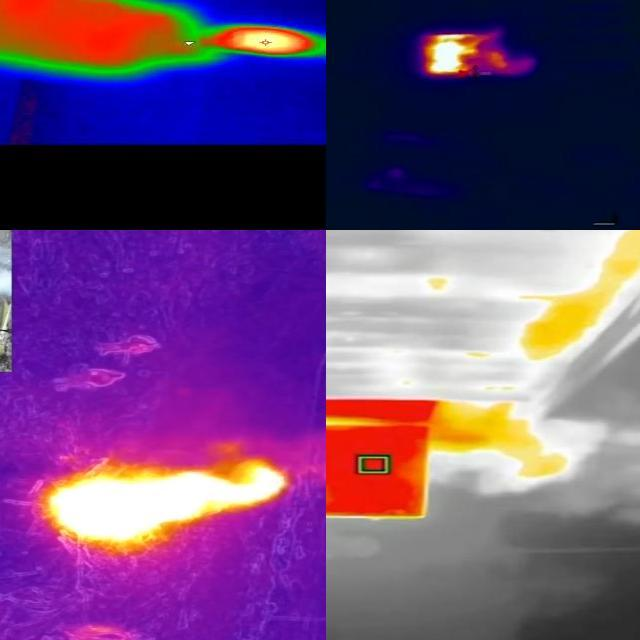fire: (34, 459, 296, 553), (520, 230, 640, 371), (421, 398, 566, 476), (424, 33, 522, 77), (204, 25, 327, 59)
